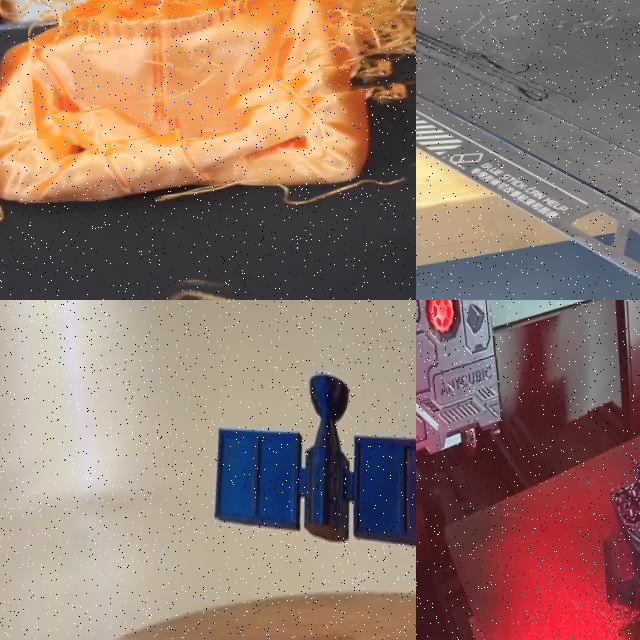spaghetti: (17, 0, 416, 140), (58, 258, 329, 300), (0, 66, 36, 288)
